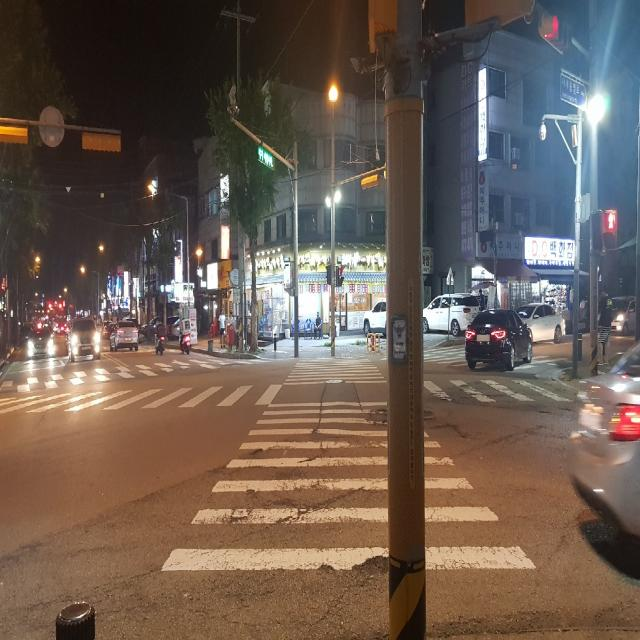빨간불: (0, 352, 267, 408), (602, 210, 618, 247)
횡단보도: (160, 358, 537, 572)
